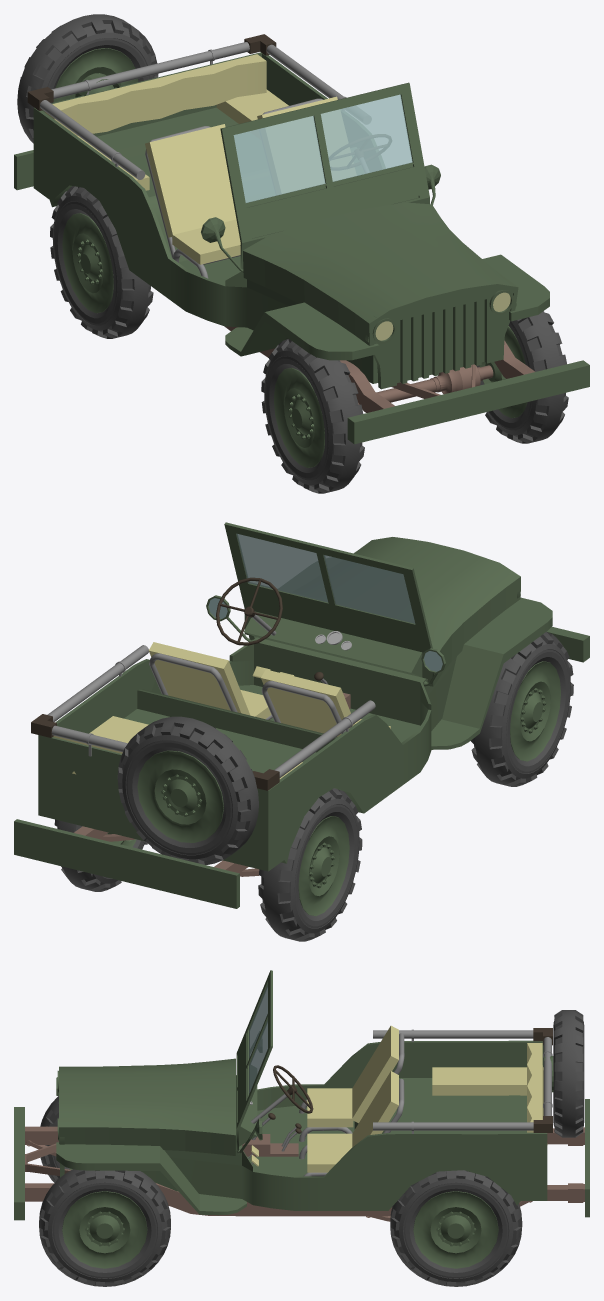
The model's file is TSIKOT.fbx.
The picture shows the model from 3 angles, top to bottom: view 1: azimuth 30°, elevation 25°; view 2: azimuth 150°, elevation 25°; view 3: azimuth 270°, elevation 25°; orthographic projection. The views are drawn at different scales.
Visible parts, largest first — view 1: WindShield, pPlane1, Body, pCube24, pCube20, Wheel7, pCube15, pCube25, Wheel9, Wheel8, pCube32, Wheel (+15 smaller); view 2: Body, WindShield, Wheel8, pPlane1, pCube26, pCube32, Wheel7, Wheel9, pCylinder61, pCylinder1, pCylinder90, pCube14 (+12 smaller); view 3: Body, pPlane1, Wheel, Wheel6, pCylinder94, pCylinder83, pCube10, Wheel8, WindShield, pCube30, pCube18, pCube15 (+13 smaller).
Boxes of the visible parts, left/top/right/bottom form: WindShield: left=220, top=82, right=429, bottom=269; pPlane1: left=243, top=202, right=518, bottom=345; Body: left=33, top=52, right=377, bottom=383; pCube24: left=365, top=290, right=516, bottom=389; pCube20: left=45, top=54, right=266, bottom=136; Wheel7: left=261, top=338, right=364, bottom=493; pCube15: left=145, top=124, right=236, bottom=237; pCube25: left=347, top=360, right=589, bottom=444; Wheel9: left=50, top=186, right=153, bottom=338; Wheel8: left=17, top=14, right=158, bottom=143; pCube32: left=225, top=302, right=379, bottom=360; Wheel: left=476, top=311, right=568, bottom=443; Body: left=38, top=637, right=456, bottom=871; WindShield: left=224, top=522, right=433, bottom=679; Wheel8: left=117, top=716, right=258, bottom=864; pPlane1: left=249, top=537, right=520, bottom=686; pCube26: left=14, top=819, right=239, bottom=908; pCube32: left=431, top=597, right=552, bottom=749; Wheel7: left=471, top=632, right=573, bottom=786; Wheel9: left=258, top=788, right=362, bottom=941; pCylinder61: left=137, top=750, right=223, bottom=842; pCylinder1: left=298, top=816, right=349, bottom=916; pCylinder90: left=510, top=661, right=560, bottom=761; pCube14: left=148, top=642, right=250, bottom=715; Body: left=141, top=1040, right=547, bottom=1210; pPlane1: left=59, top=1058, right=235, bottom=1155; Wheel: left=39, top=1169, right=170, bottom=1286; Wheel6: left=390, top=1170, right=522, bottom=1286; pCylinder94: left=62, top=1191, right=147, bottom=1268; pCylinder83: left=413, top=1191, right=498, bottom=1268; pCube10: left=56, top=1142, right=246, bottom=1215; Wheel8: left=553, top=1010, right=584, bottom=1137; WindShield: left=236, top=970, right=272, bottom=1150; pCube30: left=25, top=1183, right=584, bottom=1216; pCube18: left=432, top=1067, right=543, bottom=1095; pCube15: left=352, top=1025, right=398, bottom=1123.
Size of the model in its own units: 4.98 by 5.62 by 12.49.
